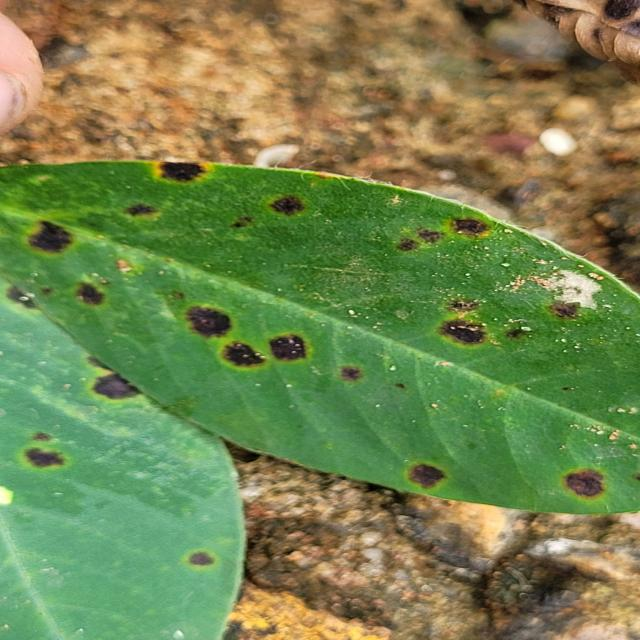Ground nut_tikka leaf spot: (0, 162, 640, 513), (0, 286, 251, 640)
